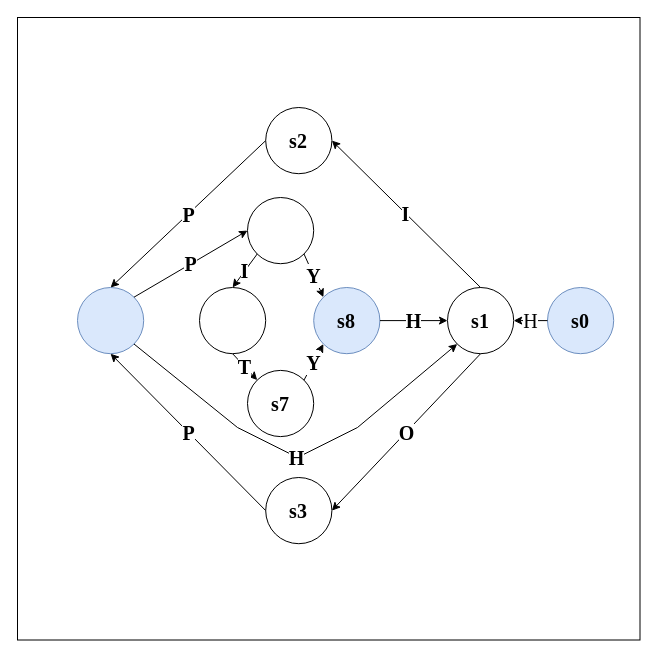
Some shapes in this 658 by 658 pixel diagram are drawn without their labels. Here are the shapes that lost their labels. From the top down, the centre of each, then its label:
the point at 280,230: s5
the point at 110,320: s4
the point at 232,320: s6
